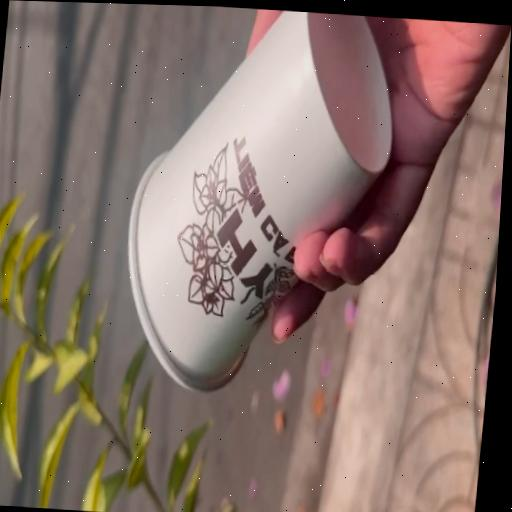Ly_giay: (129, 9, 391, 388)
